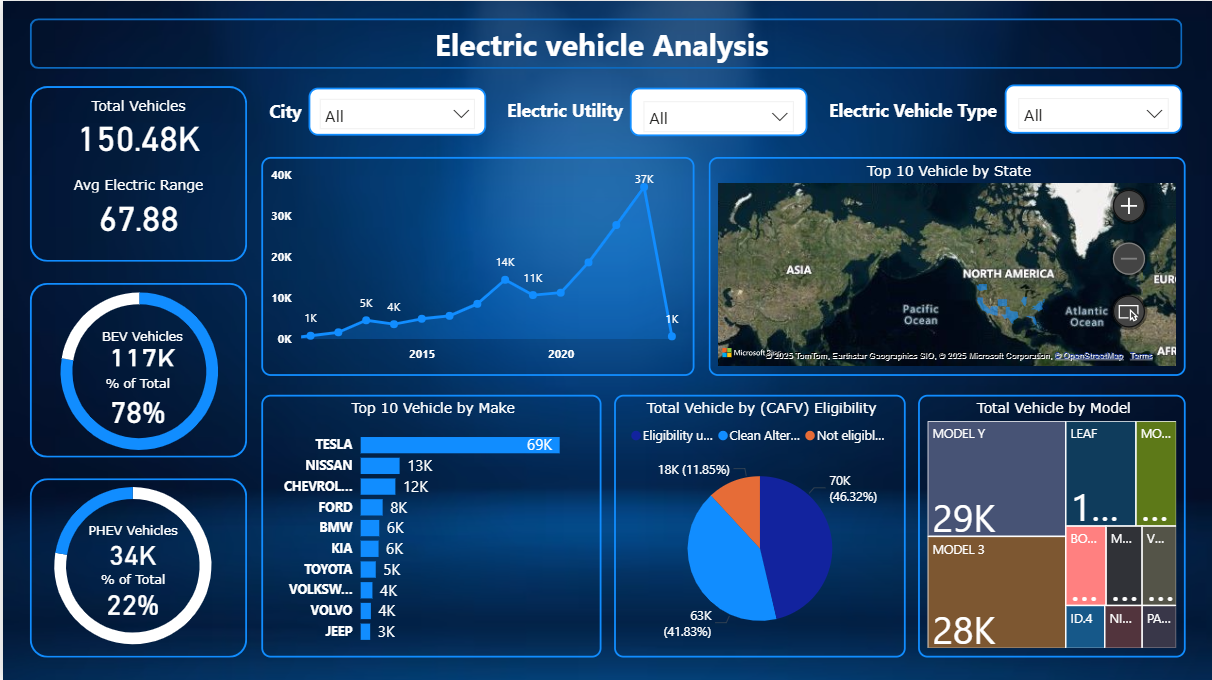

This screenshot's page, from the dashboard's own definition file:
{"tool":"powerbi","page":{"name":"Page 1","canvas":[1280,720],"ordinal":0},"visuals":[{"type":"shape","box":[28.6,17.9,1219.6,53.6],"z":0},{"type":"textbox","box":[82.1,17.9,1103.6,53.6],"z":1000},{"type":"shape","box":[28,90,230,186],"z":2000},{"type":"card","title":"Total Vehicles","fields":{"Values":["Electric_Vehicle_Population_Data.Total Vehicle"]},"box":[46.7,101.7,193.3,63.3],"z":3000},{"type":"card","title":"Avg Electric Range","fields":{"Values":["Avg(Electric_Vehicle_Population_Data.Electric Range)"]},"box":[46.7,185,193.3,66.7],"z":4000},{"type":"shape","box":[28.3,299,230,185],"z":5000},{"type":"shape","box":[28.3,505,230,190],"z":6000},{"type":"donutChart","fields":{"Category":["Electric_Vehicle_Population_Data.Electric Vehicle Type"],"Y":["Electric_Vehicle_Population_Data.Total Vehicle"]},"box":[35,273.3,218.3,236.7],"z":7000},{"type":"card","title":"BEV Vehicles","fields":{"Values":["Electric_Vehicle_Population_Data.BEV Vehicles"]},"box":[81.7,346.7,131.7,45],"z":8000},{"type":"card","title":"% of Total","fields":{"Values":["Electric_Vehicle_Population_Data.Percentage of BEV"]},"box":[77,396,131.7,57],"z":9000},{"type":"donutChart","fields":{"Category":["Electric_Vehicle_Population_Data.Electric Vehicle Type"],"Y":["Electric_Vehicle_Population_Data.Total Vehicle"]},"box":[28.3,480,218,235],"z":10000},{"type":"card","title":"PHEV Vehicles","fields":{"Values":["Electric_Vehicle_Population_Data.PHEV Vehicles"]},"box":[72,552,131.7,50],"z":11000},{"type":"card","title":"% of Total","fields":{"Values":["Electric_Vehicle_Population_Data.% of PHEV"]},"box":[71.7,603,131.7,51.7],"z":12000},{"type":"areaChart","fields":{"Category":["Electric_Vehicle_Population_Data.Model Year"],"Y":["Electric_Vehicle_Population_Data.Total Vehicle"]},"box":[273.3,165,458.3,231.7],"z":13000},{"type":"filledMap","title":"Top 10 Vehicle by State","fields":{"Category":["Electric_Vehicle_Population_Data.State"]},"box":[746.7,165,505,231.7],"z":14000},{"type":"clusteredBarChart","title":"Top 10 Vehicle by Make","fields":{"Category":["Electric_Vehicle_Population_Data.Make"],"Y":["Electric_Vehicle_Population_Data.Total Vehicle"]},"box":[273.3,416.7,360,278.3],"z":15000},{"type":"pieChart","title":"Total Vehicle by (CAFV) Eligibility","fields":{"Category":["Electric_Vehicle_Population_Data.Clean Alternative Fuel Vehicle (CAFV) Eligibility"],"Y":["Electric_Vehicle_Population_Data.Total Vehicle"]},"box":[646.7,416.7,308.3,278.3],"z":16000},{"type":"treemap","fields":{"Group":["Electric_Vehicle_Population_Data.Model"],"Values":["Electric_Vehicle_Population_Data.Total Vehicle"]},"box":[968.3,416.7,283.3,278.3],"z":17000},{"type":"slicer","fields":{"Values":["Electric_Vehicle_Population_Data.City"]},"box":[324,91,188,51],"z":18000},{"type":"textbox","box":[276.8,91.1,62.5,51.8],"z":19000},{"type":"slicer","fields":{"Values":["Electric_Vehicle_Population_Data.Electric Utility"]},"box":[663,91,188,51.7],"z":20000},{"type":"textbox","box":[528.6,89.3,141.1,53.6],"z":21000},{"type":"textbox","box":[858.9,89.3,208.9,53.6],"z":22000},{"type":"slicer","fields":{"Values":["Electric_Vehicle_Population_Data.Electric Vehicle Type"]},"box":[1060,89,188,51.8],"z":23000}]}

Visuals, with their boxes in screenshot pixels (x1, y1, x2, y2), scaled from the page's 1280x720 canvas onto the 1212x680 screenshot:
shape: region(27, 17, 1182, 68)
textbox: region(78, 17, 1123, 68)
shape: region(27, 85, 244, 261)
"Total Vehicles" card: region(44, 96, 227, 156)
"Avg Electric Range" card: region(44, 175, 227, 238)
shape: region(27, 282, 245, 457)
shape: region(27, 477, 245, 656)
donutChart - Electric_Vehicle_Population_Data.Electric Vehicle Type x Electric_Vehicle_Population_Data.Total Vehicle: region(33, 258, 240, 482)
"BEV Vehicles" card: region(77, 327, 202, 370)
"% of Total" card: region(73, 374, 198, 428)
donutChart - Electric_Vehicle_Population_Data.Electric Vehicle Type x Electric_Vehicle_Population_Data.Total Vehicle: region(27, 453, 233, 675)
"PHEV Vehicles" card: region(68, 521, 193, 569)
"% of Total" card: region(68, 570, 193, 618)
areaChart - Electric_Vehicle_Population_Data.Model Year x Electric_Vehicle_Population_Data.Total Vehicle: region(259, 156, 693, 375)
"Top 10 Vehicle by State" filledMap: region(707, 156, 1185, 375)
"Top 10 Vehicle by Make" clusteredBarChart: region(259, 394, 600, 656)
"Total Vehicle by (CAFV) Eligibility" pieChart: region(612, 394, 904, 656)
treemap - Electric_Vehicle_Population_Data.Model x Electric_Vehicle_Population_Data.Total Vehicle: region(917, 394, 1185, 656)
slicer - Electric_Vehicle_Population_Data.City: region(307, 86, 485, 134)
textbox: region(262, 86, 321, 135)
slicer - Electric_Vehicle_Population_Data.Electric Utility: region(628, 86, 806, 135)
textbox: region(501, 84, 634, 135)
textbox: region(813, 84, 1011, 135)
slicer - Electric_Vehicle_Population_Data.Electric Vehicle Type: region(1004, 84, 1182, 133)
